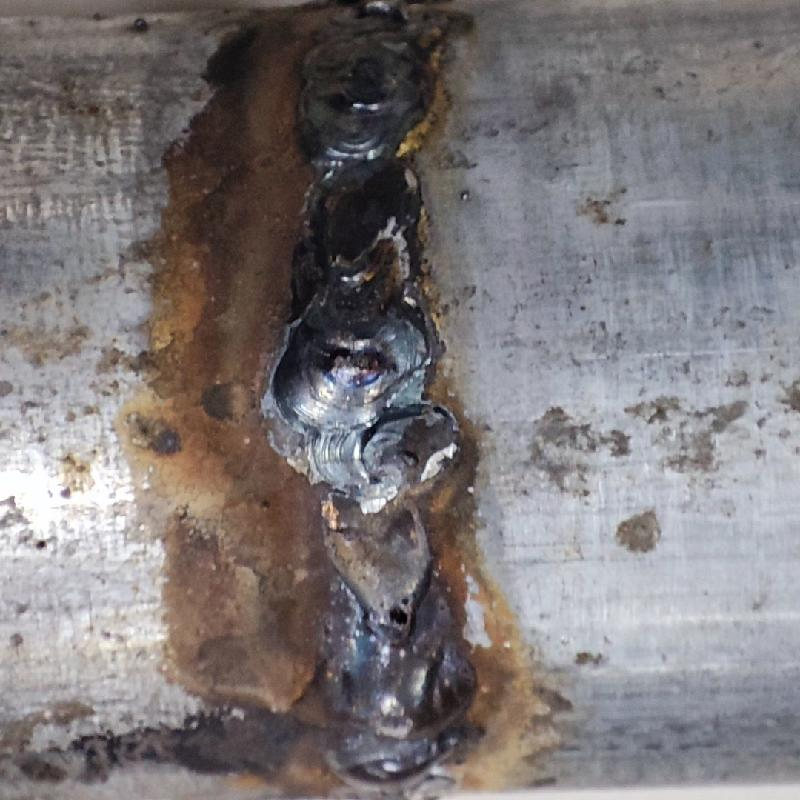Not_fully_soldered: (285, 425, 443, 645)
Surface_pores: (367, 592, 427, 636)
wrong_size: (282, 32, 441, 424)
